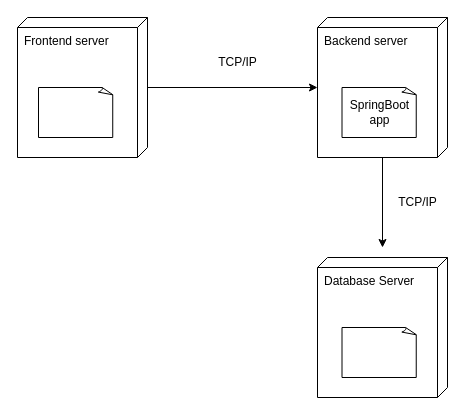
Some shapes in this 465 by 415 pixel diagram are drawn without their labels. Here are the shapes that lost their labels. From the top down, the centre of each, then its label:
pixel 76 112: Angular app
pixel 379 352: PostgreSQL Server
